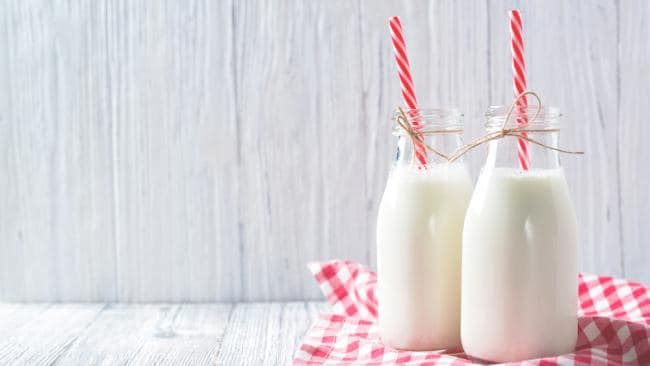glass of milk: (461, 148, 577, 359), (375, 140, 469, 352)
